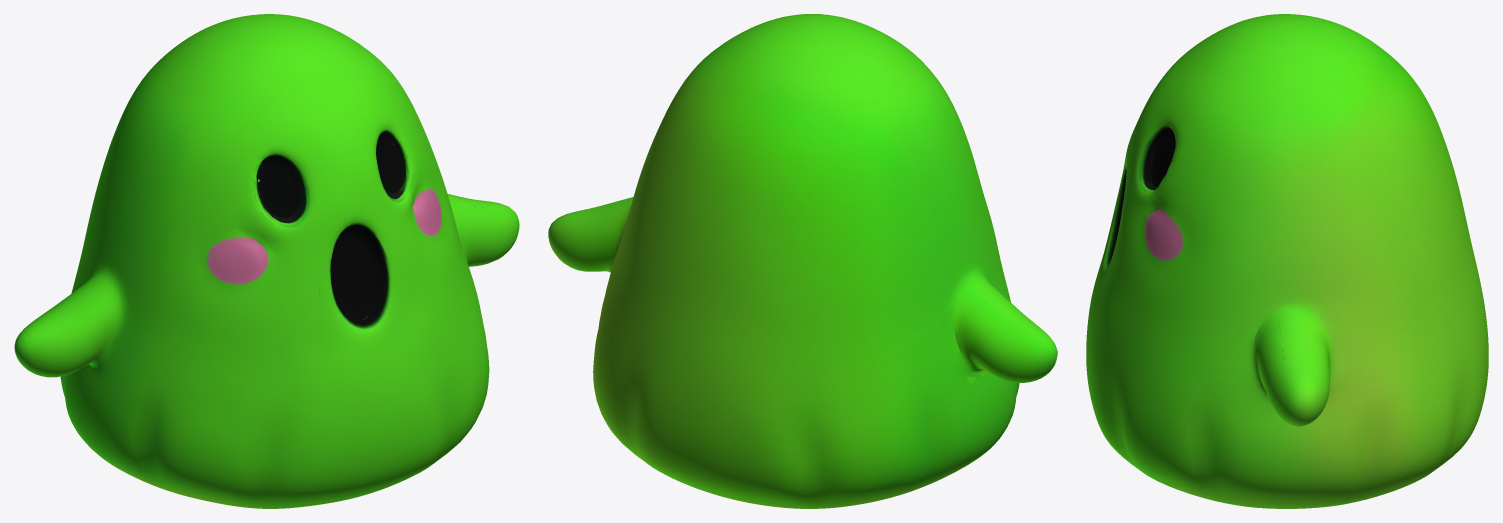
3 views of the same model, side by side, from view 1: azimuth 30°, elevation 25°; view 2: azimuth 150°, elevation 25°; view 3: azimuth 270°, elevation 25° (orthographic).
Visible parts, largest first — view 1: Meshy_AI_Squishy_Green_Ghost_0830213158_image-to-3d-texture; view 2: Meshy_AI_Squishy_Green_Ghost_0830213158_image-to-3d-texture; view 3: Meshy_AI_Squishy_Green_Ghost_0830213158_image-to-3d-texture.
Boxes of the visible parts, left/top/right/bottom form: Meshy_AI_Squishy_Green_Ghost_0830213158_image-to-3d-texture: left=14, top=14, right=519, bottom=508; Meshy_AI_Squishy_Green_Ghost_0830213158_image-to-3d-texture: left=548, top=14, right=1057, bottom=508; Meshy_AI_Squishy_Green_Ghost_0830213158_image-to-3d-texture: left=1086, top=14, right=1488, bottom=508.
Size of the model in its own units: 1.9 by 1.58 by 1.33.
1 material, 1 textured.
